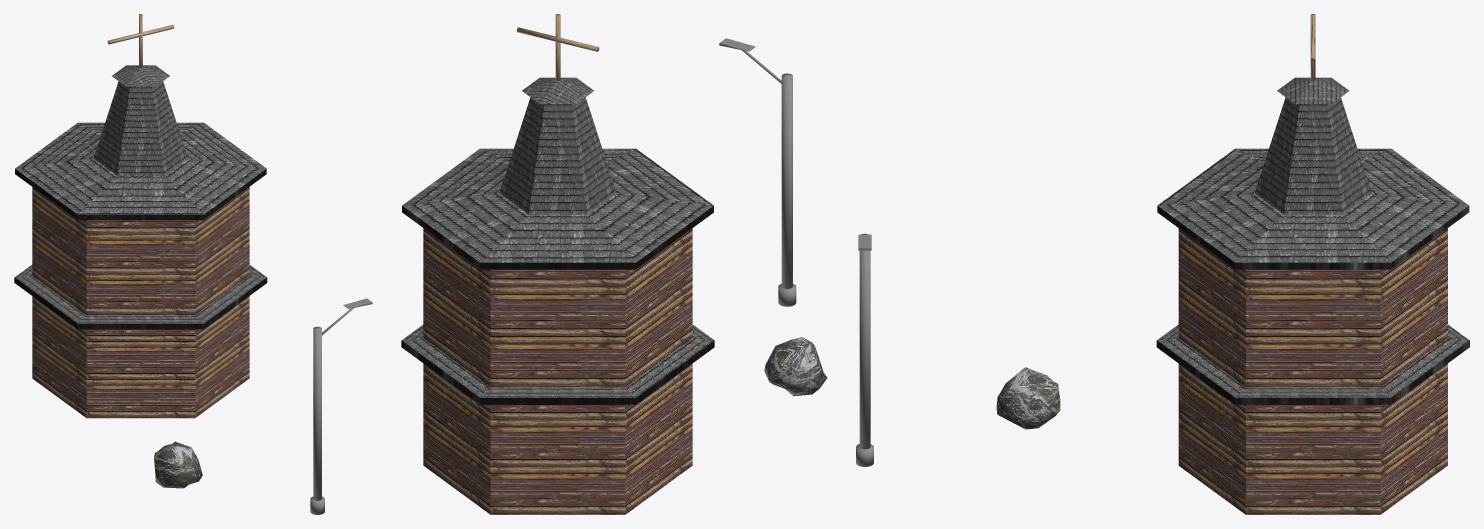
File: escena 1.glb
3 views of the same model, side by side, from view 1: azimuth 30°, elevation 25°; view 2: azimuth 150°, elevation 25°; view 3: azimuth 270°, elevation 25° (orthographic). The views are drawn at different scales.
Parts seen in each view (by area): view 1: Cruz Ver.001, Base Luz.col.001, Piedra 1.col.001; view 2: Cruz Ver.001, Base Luz.col.001, Piedra 1.col.001; view 3: Cruz Ver.001, Base Luz.col.001, Piedra 1.col.001.
Part boxes in pixels (<box>): Cruz Ver.001: <box>14,14,267,418</box>; Base Luz.col.001: <box>310,298,372,514</box>; Piedra 1.col.001: <box>154,441,202,488</box>; Cruz Ver.001: <box>401,14,714,514</box>; Base Luz.col.001: <box>719,38,796,306</box>; Piedra 1.col.001: <box>764,337,827,396</box>; Cruz Ver.001: <box>1156,14,1469,514</box>; Base Luz.col.001: <box>856,233,873,466</box>; Piedra 1.col.001: <box>996,367,1060,429</box>.
Size of what is drawn, in the model's own units: 2.06 by 3.7 by 4.56.
5 materials, 4 textured.
